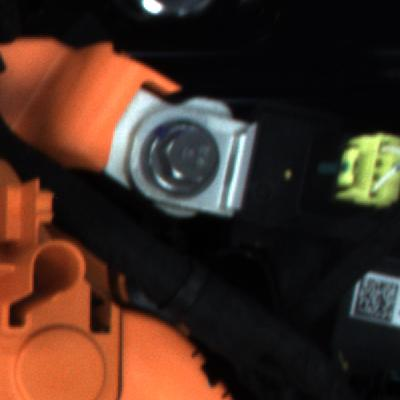nut_b: (140, 119, 232, 204)
